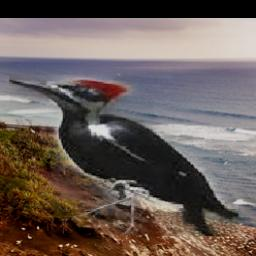Woodpecker: (9, 75, 238, 236)
